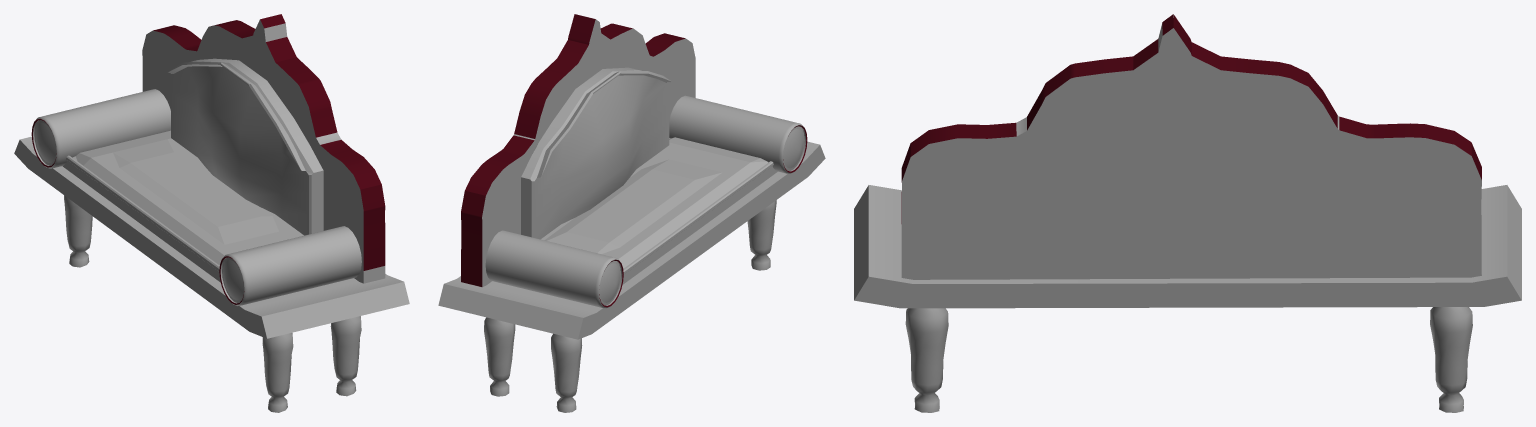
Rendered from sofa.fbx.
3 renders of one model, left to right at view 1: azimuth 30°, elevation 25°; view 2: azimuth 150°, elevation 25°; view 3: azimuth 270°, elevation 25°, orthographic. The views are drawn at different scales.
Visible parts, largest first — view 1: polySurface12, polySurface6, polySurface11, polySurface9, polySurface3, polySurface14, polySurface4, polySurface1, polySurface5; view 2: polySurface12, polySurface6, polySurface11, polySurface9, polySurface14, polySurface3, polySurface10, polySurface5, polySurface4; view 3: polySurface6, polySurface9, polySurface10, polySurface1.
Part boxes in pixels (left/top/right/bottom): polySurface12: left=168, top=58, right=323, bottom=235; polySurface6: left=142, top=14, right=385, bottom=283; polySurface11: left=62, top=130, right=303, bottom=282; polySurface9: left=14, top=136, right=409, bottom=338; polySurface3: left=219, top=226, right=361, bottom=305; polySurface14: left=31, top=89, right=170, bottom=168; polySurface4: left=262, top=333, right=293, bottom=412; polySurface1: left=330, top=316, right=361, bottom=396; polySurface5: left=64, top=195, right=92, bottom=267; polySurface12: left=521, top=67, right=671, bottom=239; polySurface6: left=461, top=14, right=695, bottom=286; polySurface11: left=541, top=137, right=777, bottom=284; polySurface9: left=438, top=141, right=825, bottom=339; polySurface14: left=485, top=230, right=623, bottom=308; polySurface3: left=669, top=95, right=807, bottom=173; polySurface10: left=484, top=317, right=515, bottom=396; polySurface5: left=551, top=333, right=582, bottom=412; polySurface4: left=747, top=200, right=776, bottom=270; polySurface6: left=901, top=14, right=1481, bottom=279; polySurface9: left=854, top=185, right=1521, bottom=308; polySurface10: left=1430, top=307, right=1472, bottom=412; polySurface1: left=905, top=308, right=948, bottom=412.
Bounding box in the file's own units: 2.18 × 4.22 × 6.39.
